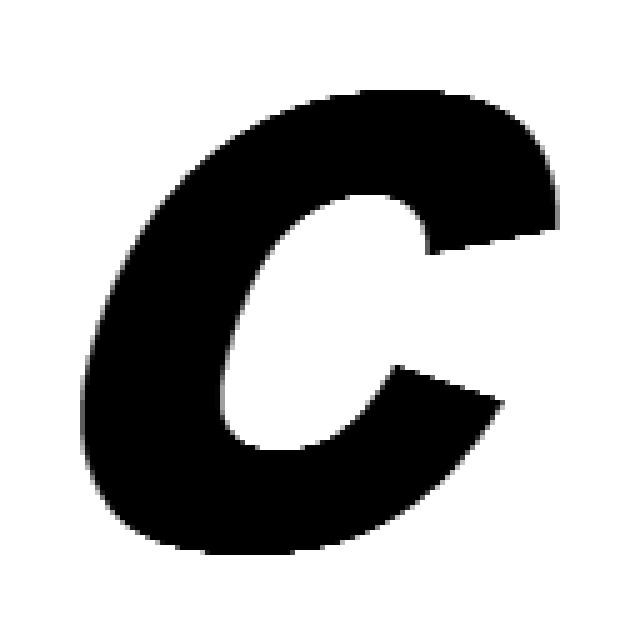C: (80, 90, 560, 560)
